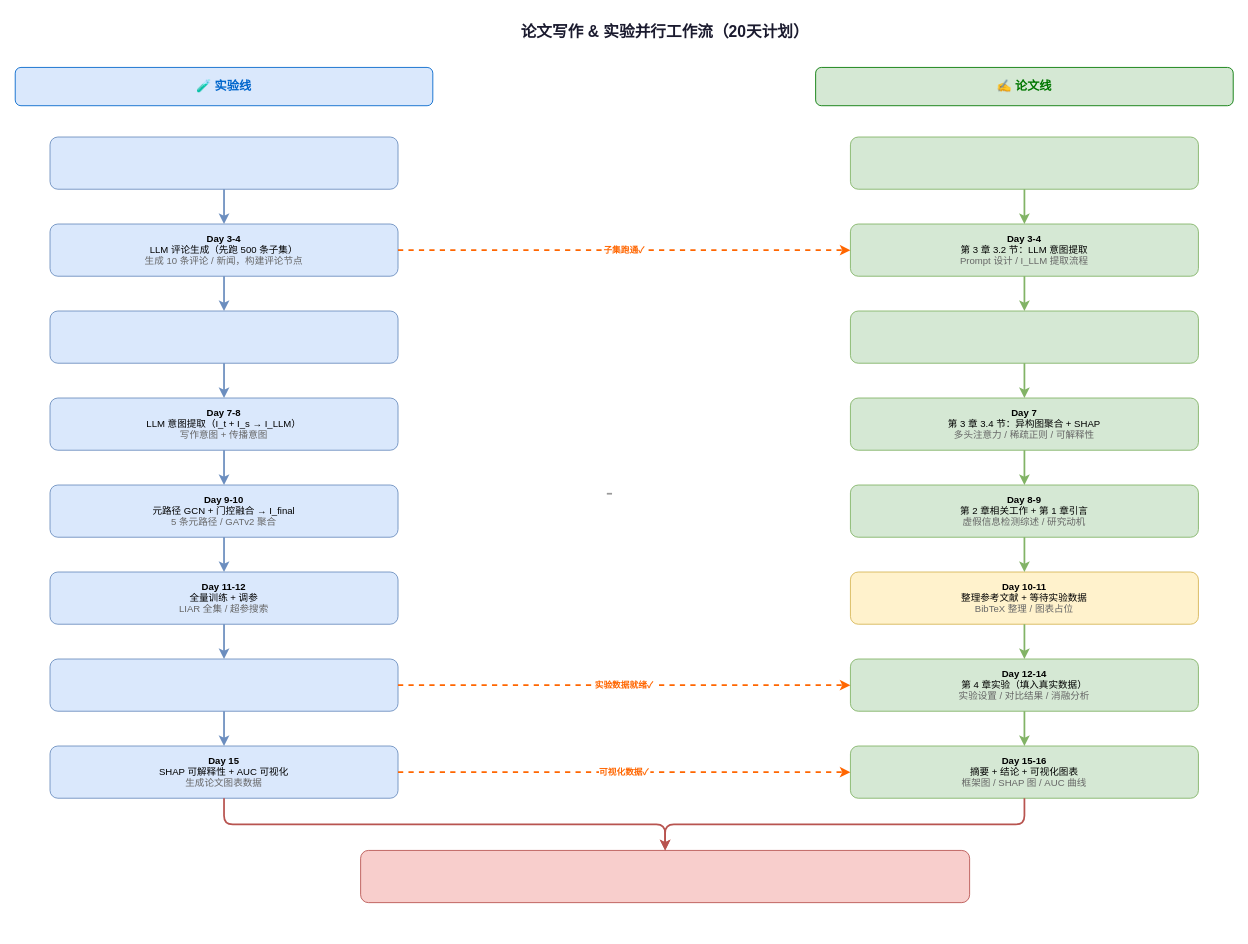
Some shapes in this 1248 by 944 pixel diagram are drawn without their labels. The box of each missing label's shape, as (x1, y1, x2, y2) in pixels:
Day 1-2 LIAR 数据预处理 清洗 / 分词 / 构建作者节点: (49, 136, 398, 189)
Day 1-2 第 3 章 3.1 节：问题定义 HG 形式化 / 意图定义 / 检测目标: (850, 136, 1198, 189)
Day 13-14 对比实验 + 消融实验 Baseline 对比 / 各模块消融: (49, 658, 398, 711)
Day 17-20 🎯 全文润色 + 格式检查 + 提交 Pandoc 转 Word → 老师审阅 → 定稿: (360, 850, 970, 903)
Day 5-6 异构图构建 HG(V, E, R) HeteroData .pt 文件 / 6 种边类型: (49, 310, 398, 363)
Day 5-6 第 3 章 3.3 节：元路径 + 门控融合 5 条元路径 / GCN / I_final 融合机制: (850, 310, 1198, 363)
